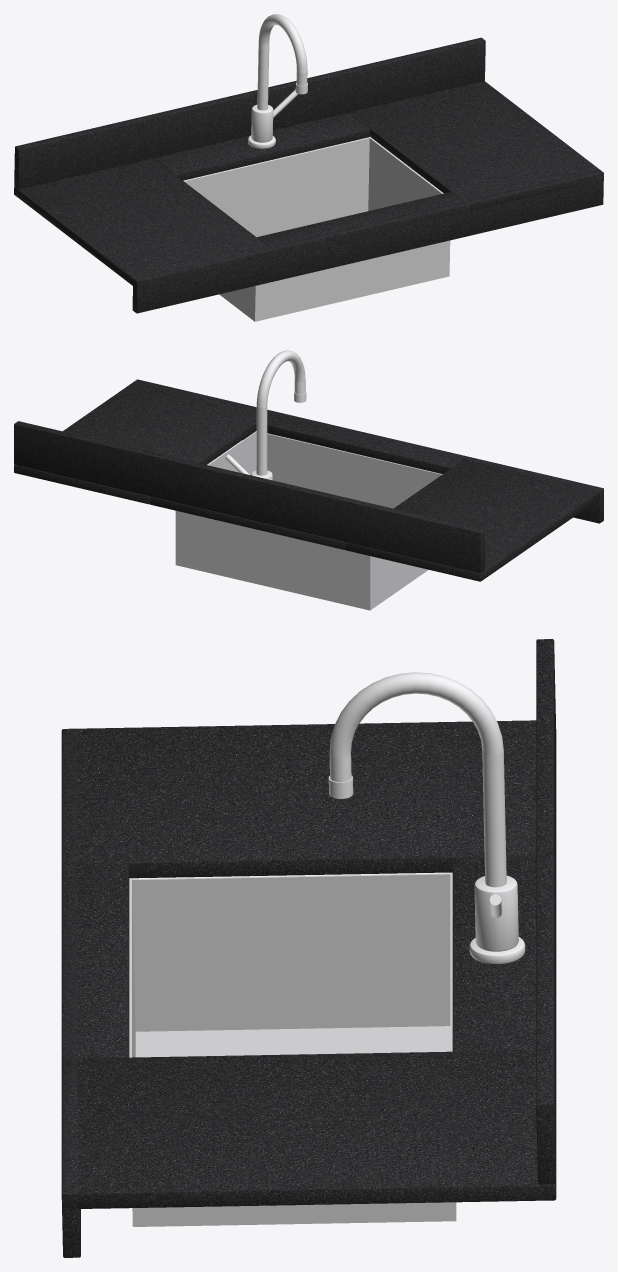
File: HID-ACS-002_anim.glb
The picture shows the model from 3 angles, top to bottom: view 1: azimuth 30°, elevation 25°; view 2: azimuth 150°, elevation 25°; view 3: azimuth 270°, elevation 25°; orthographic projection. The views are drawn at different scales.
Parts seen in each view (by area): view 1: HID-ACS-002_anim0; view 2: HID-ACS-002_anim0; view 3: HID-ACS-002_anim0.
Boxes of the visible parts, x1=… form: HID-ACS-002_anim0: x1=14, y1=14, x2=603, y2=321; HID-ACS-002_anim0: x1=14, y1=350, x2=603, y2=610; HID-ACS-002_anim0: x1=61, y1=639, x2=556, y2=1257.
Size of the model in its own units: 1.2 by 0.5659 by 0.5502.
Materials: 3 (1 with a texture image).
